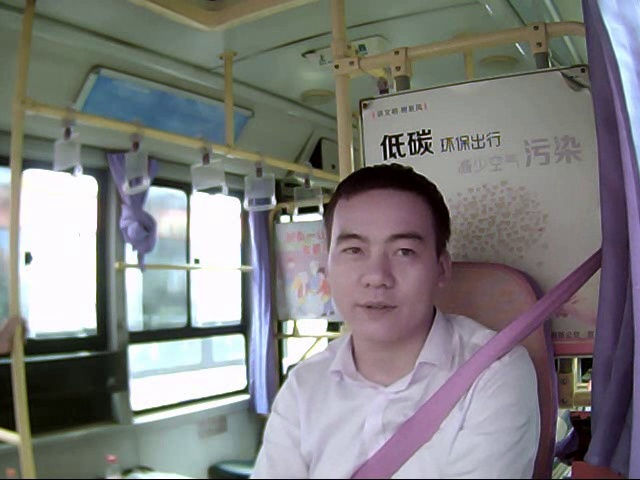closed_mouth: (353, 299, 397, 316)
open_eye: (386, 246, 422, 261), (337, 245, 363, 257)
